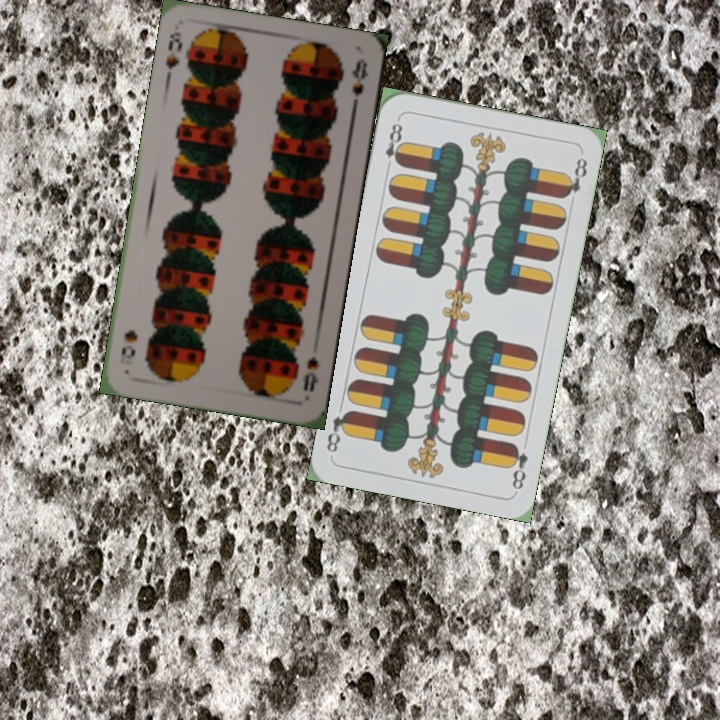E8: (381, 115, 407, 173), (505, 440, 531, 492)
S8: (161, 27, 185, 84), (298, 352, 321, 395)
